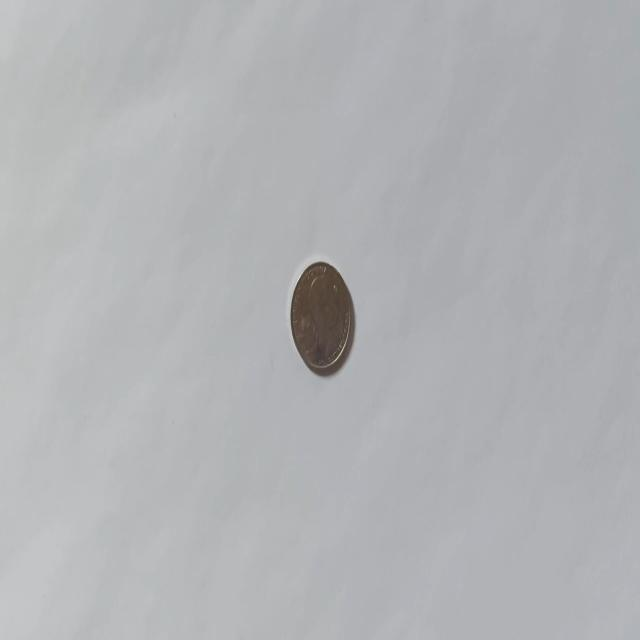seribu rupiah koin: (288, 258, 354, 376)
